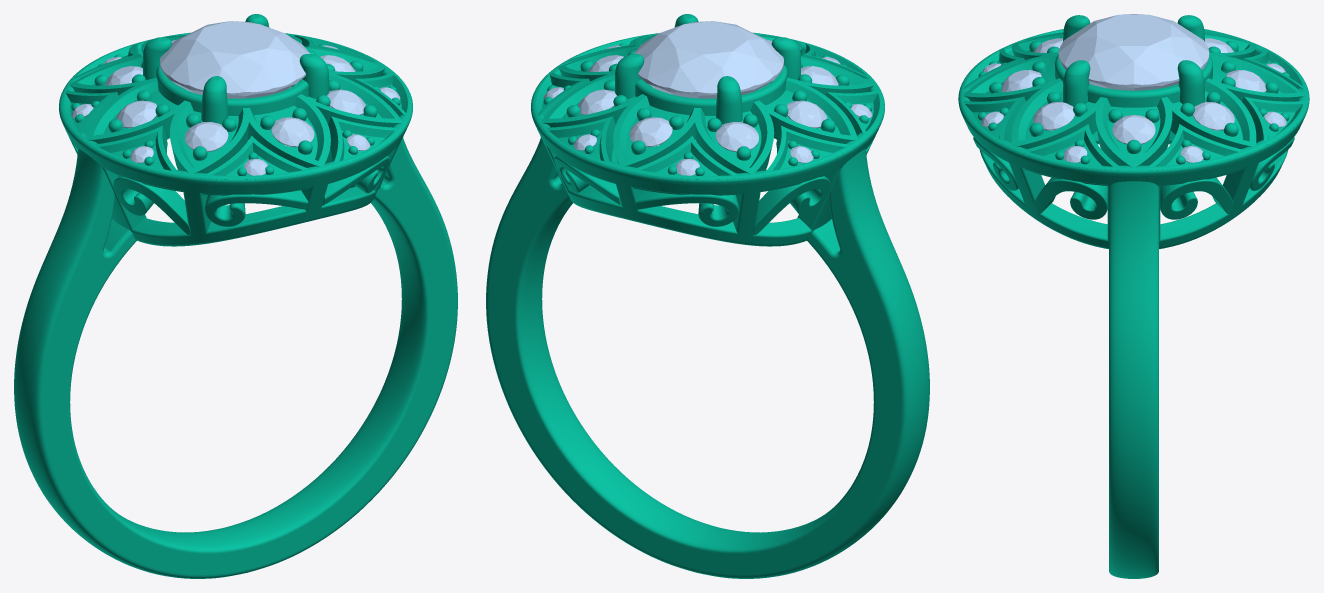
3 views of the same model, side by side, from view 1: azimuth 30°, elevation 25°; view 2: azimuth 150°, elevation 25°; view 3: azimuth 270°, elevation 25° (orthographic).
Parts seen in each view (by area): view 1: JTC-16786(front).3dm, Diamond_Round (×5); view 2: JTC-16786(front).3dm, Diamond_Round (×5); view 3: JTC-16786(front).3dm, Diamond_Round (×6).
Part boxes in pixels (<box>): JTC-16786(front).3dm: <box>14,14,457,578</box>; Diamond_Round (×5): <box>116,21,365,151</box>; JTC-16786(front).3dm: <box>486,14,929,578</box>; Diamond_Round (×5): <box>578,21,827,151</box>; JTC-16786(front).3dm: <box>958,15,1309,578</box>; Diamond_Round (×6): <box>1001,14,1266,144</box>.
Bounding box in the file's own units: 2.34 × 2.77 × 1.68.
